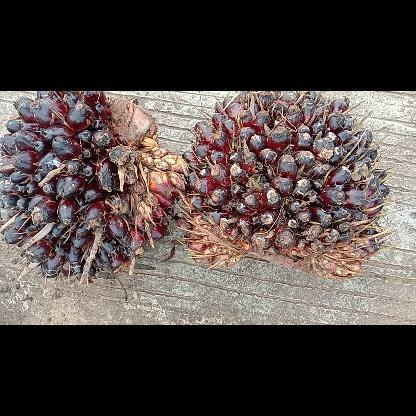TBS mentah: (173, 91, 391, 279), (0, 90, 188, 284)
